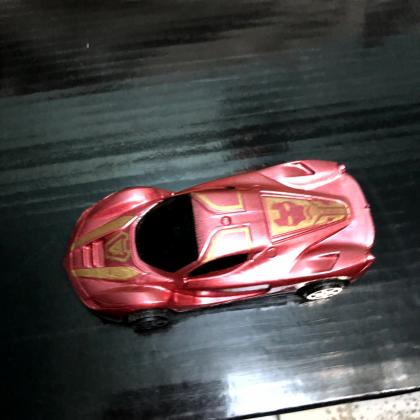Car: (63, 159, 376, 335)
